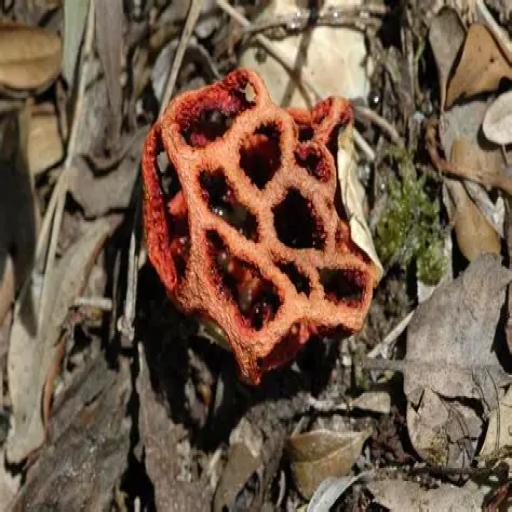mushroom: (139, 70, 378, 368)
